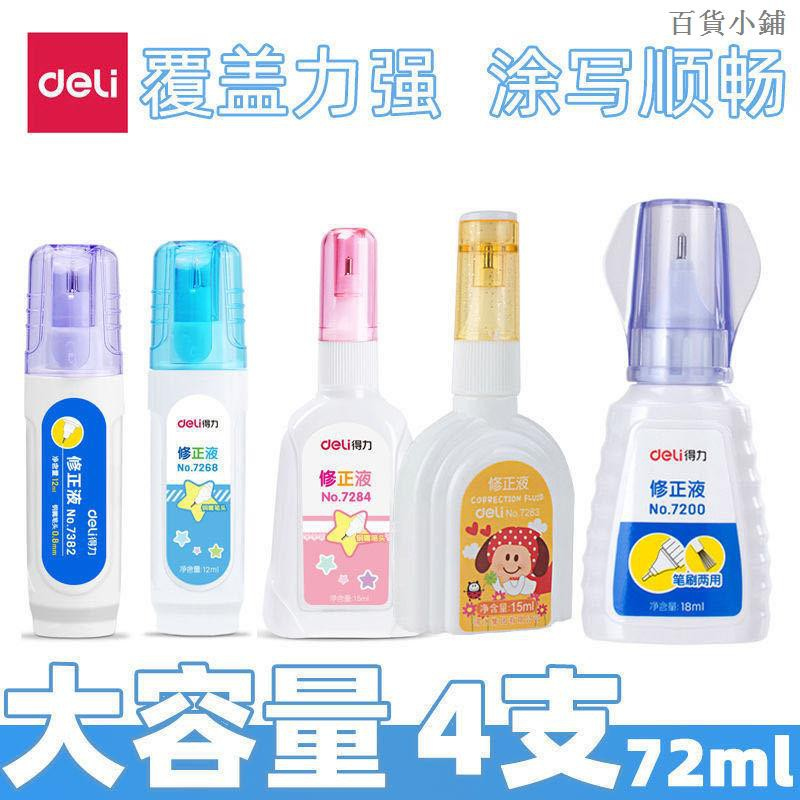Correction_fluid: (577, 196, 779, 653), (385, 203, 581, 639), (256, 218, 446, 646), (141, 234, 255, 640), (18, 240, 129, 645)
